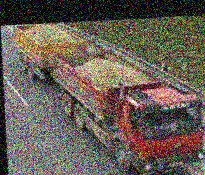truck: (12, 15, 205, 175)
